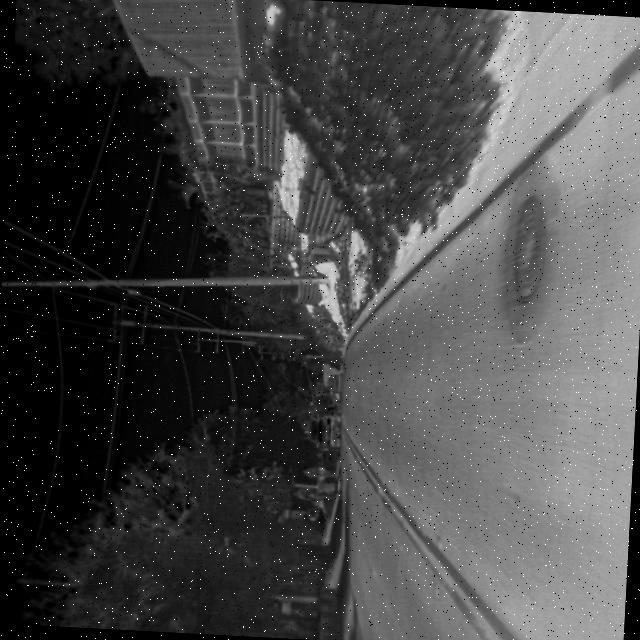Pedestrian: (290, 484, 344, 502), (300, 464, 344, 480)
Vehicle: (305, 412, 344, 451)
